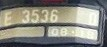plate: (1, 6, 102, 42)
